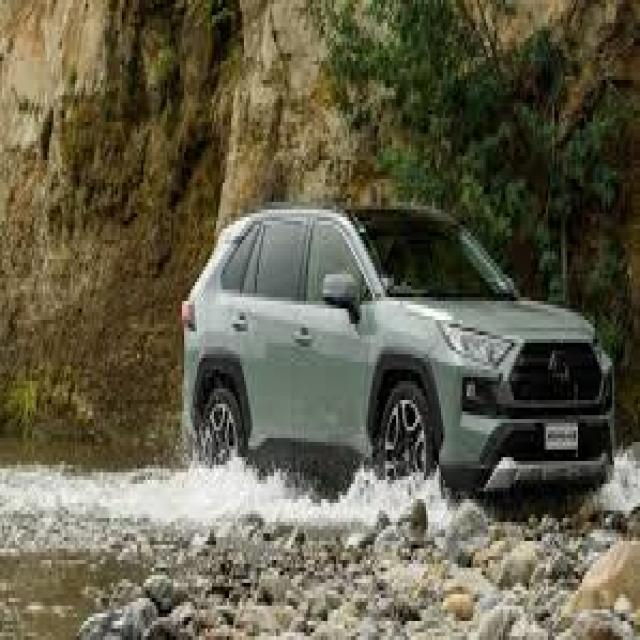light_vehicle: (180, 202, 616, 499)
